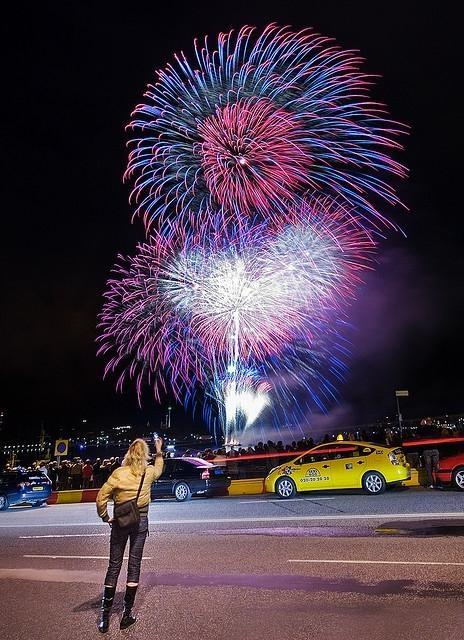car: (264, 440, 408, 498), (151, 457, 232, 502), (0, 468, 54, 510), (436, 454, 464, 489)
